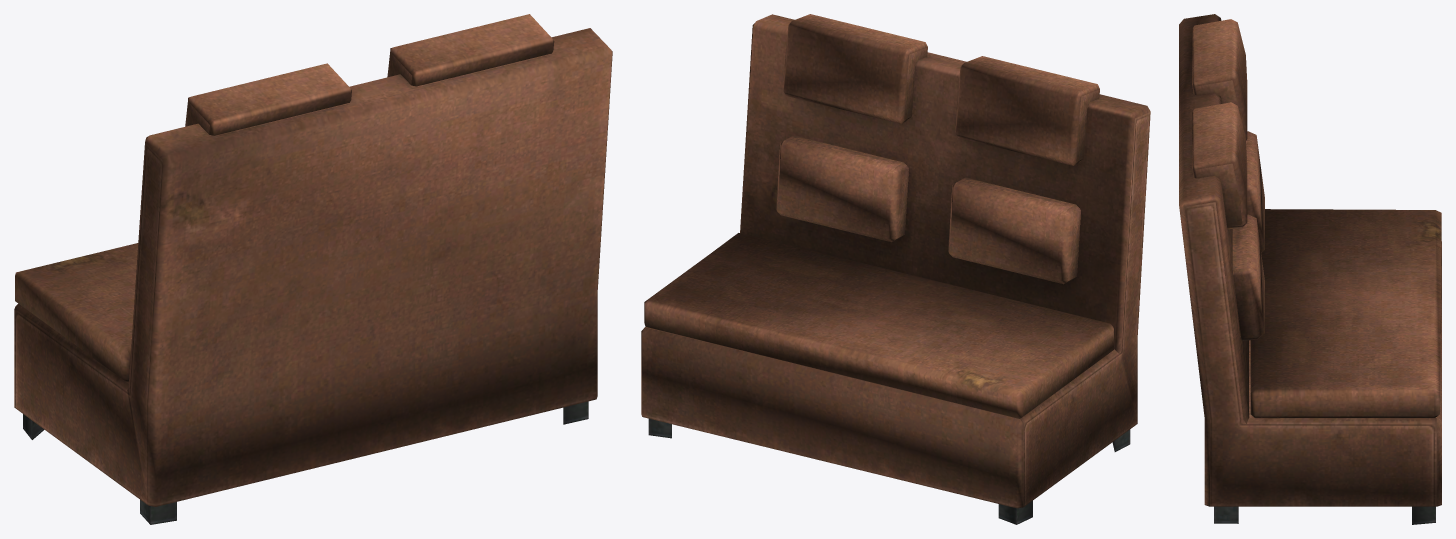
File: Prop_JbSf01.glb
The picture shows the model from 3 angles, left to right: view 1: azimuth 30°, elevation 25°; view 2: azimuth 150°, elevation 25°; view 3: azimuth 270°, elevation 25°; orthographic projection. The views are drawn at different scales.
Parts seen in each view (by area): view 1: xiutz_jb_sf_01; view 2: xiutz_jb_sf_01; view 3: xiutz_jb_sf_01.
Part boxes in pixels (box(x1,y1,x2,y2)): xiutz_jb_sf_01: box(14, 14, 612, 524); xiutz_jb_sf_01: box(641, 14, 1150, 524); xiutz_jb_sf_01: box(1179, 14, 1441, 524).
Bounding box in the file's own units: 2.6 × 2.27 × 1.56.
1 material, 1 textured.
